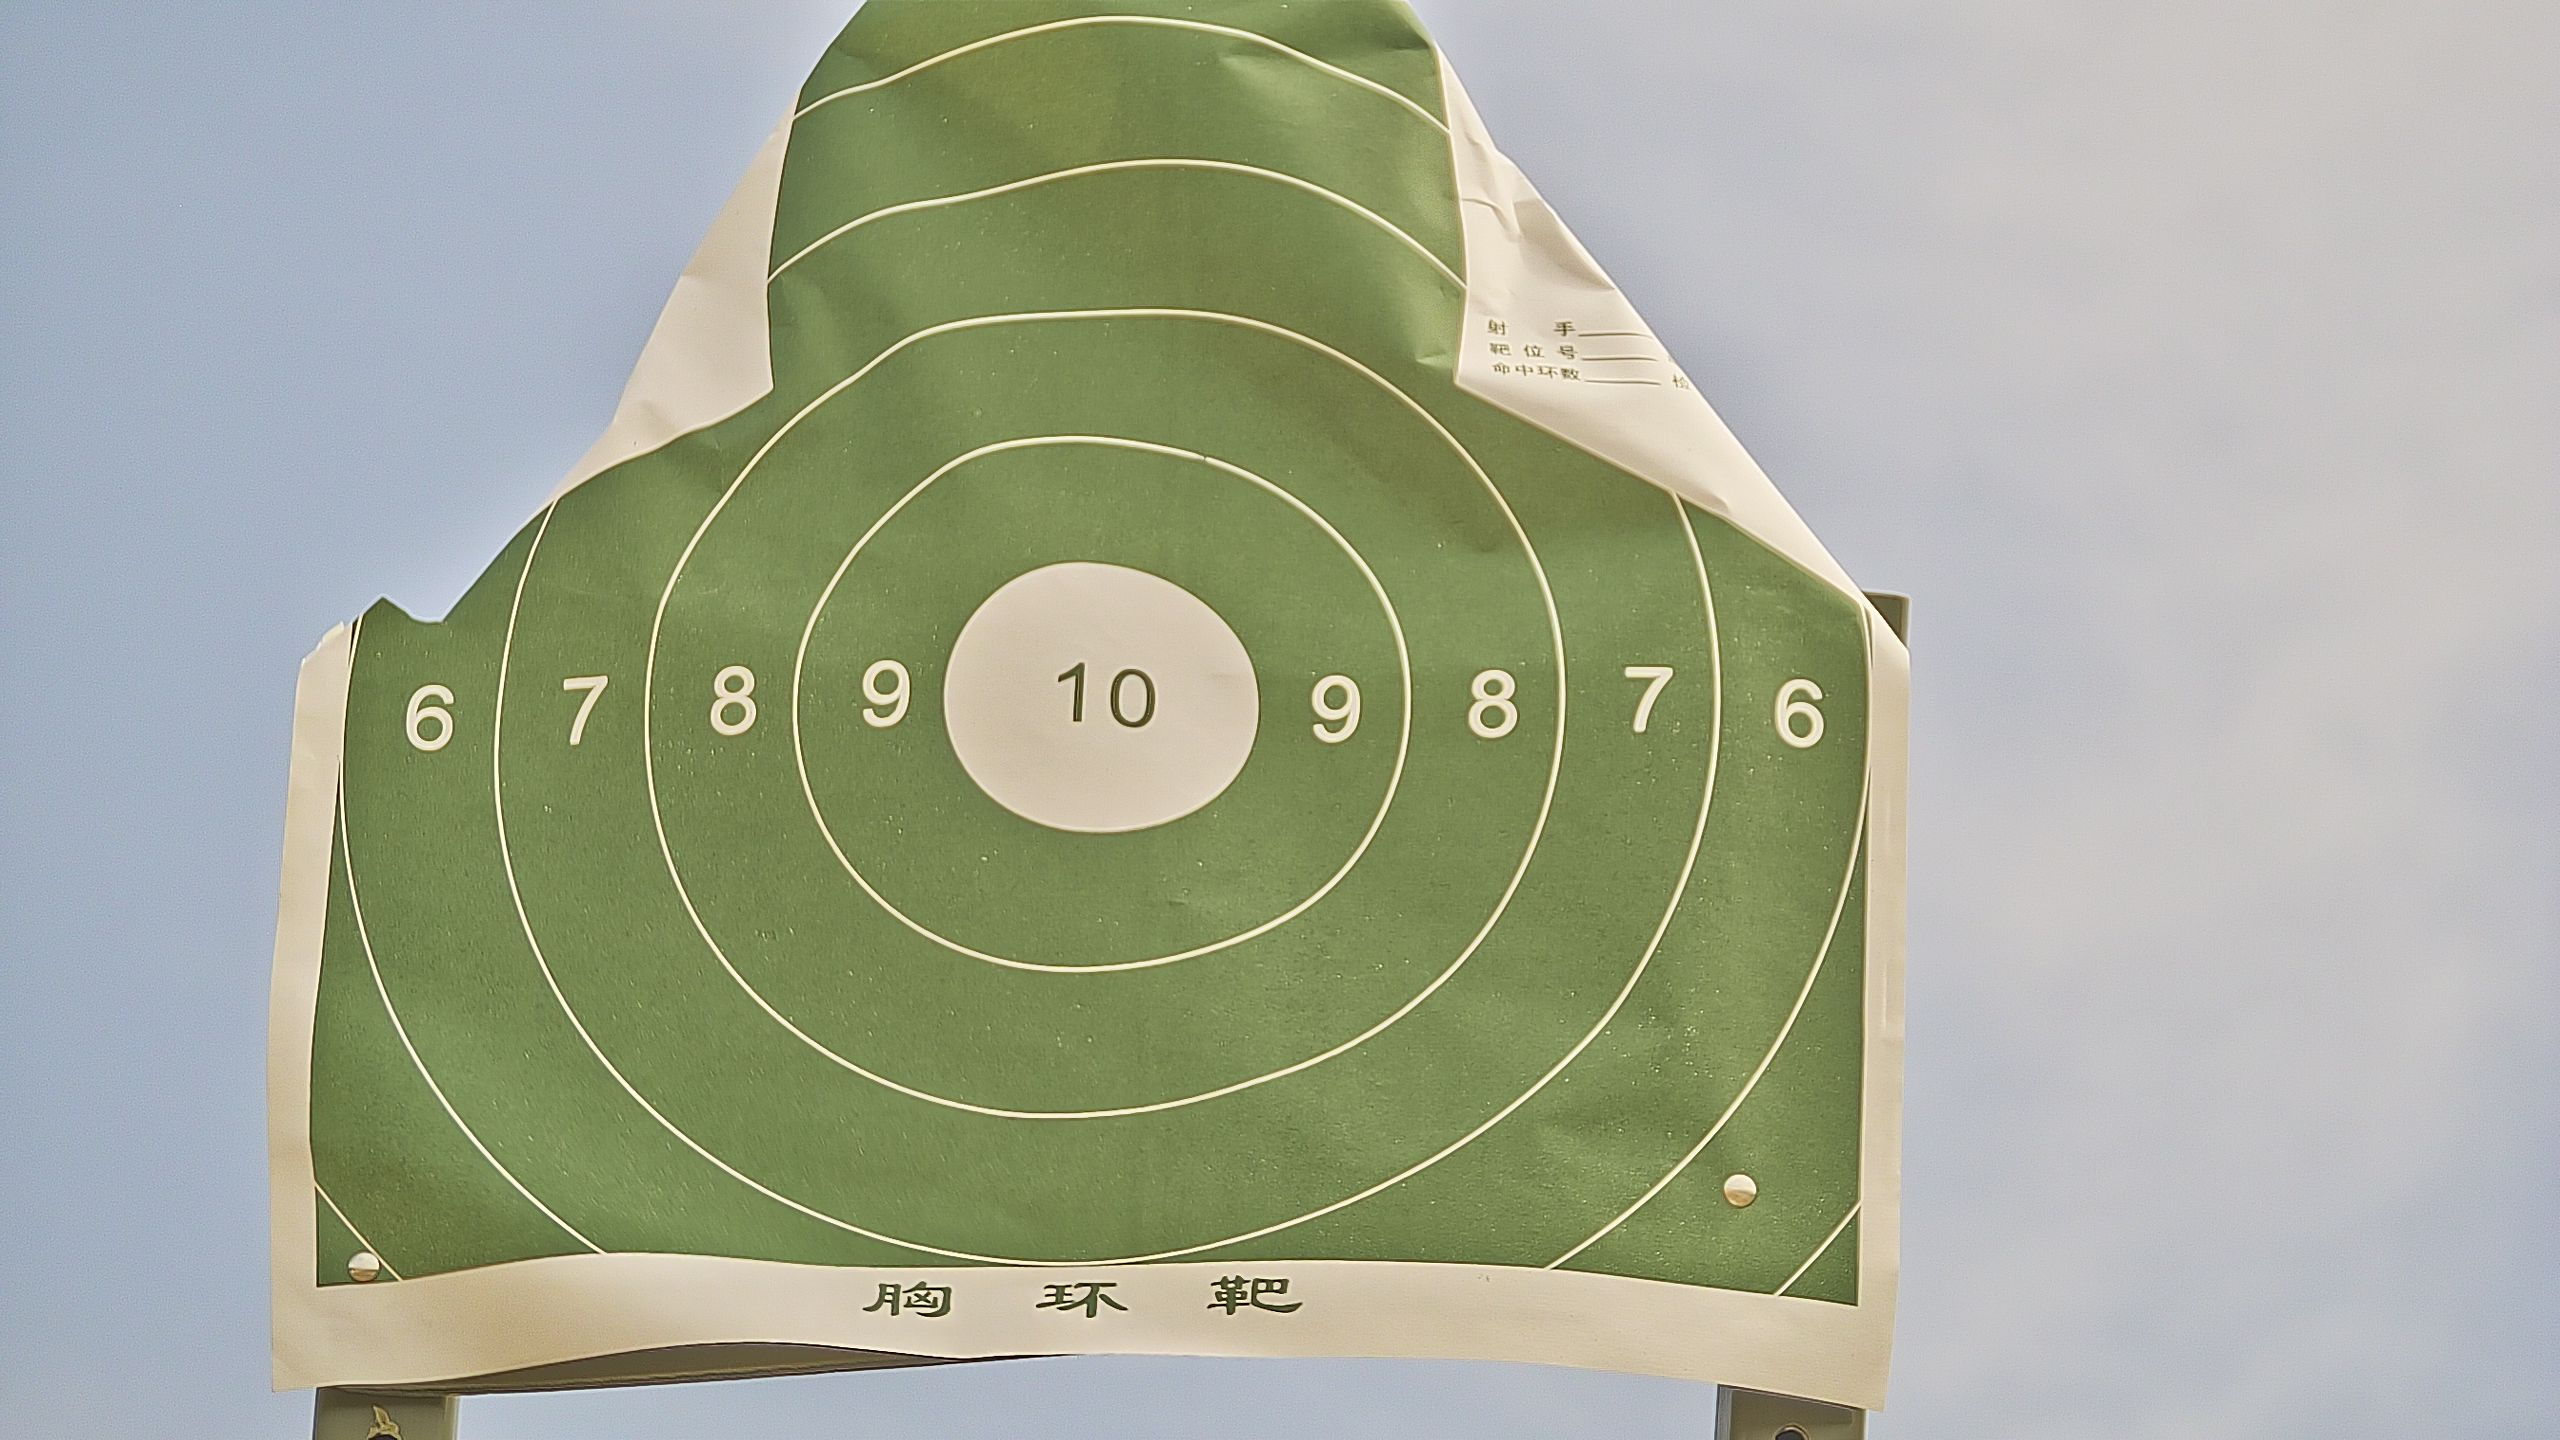kernel: (1090, 693, 1097, 696)
target: (311, 2, 1865, 1317)
ten: (934, 554, 1261, 833)
